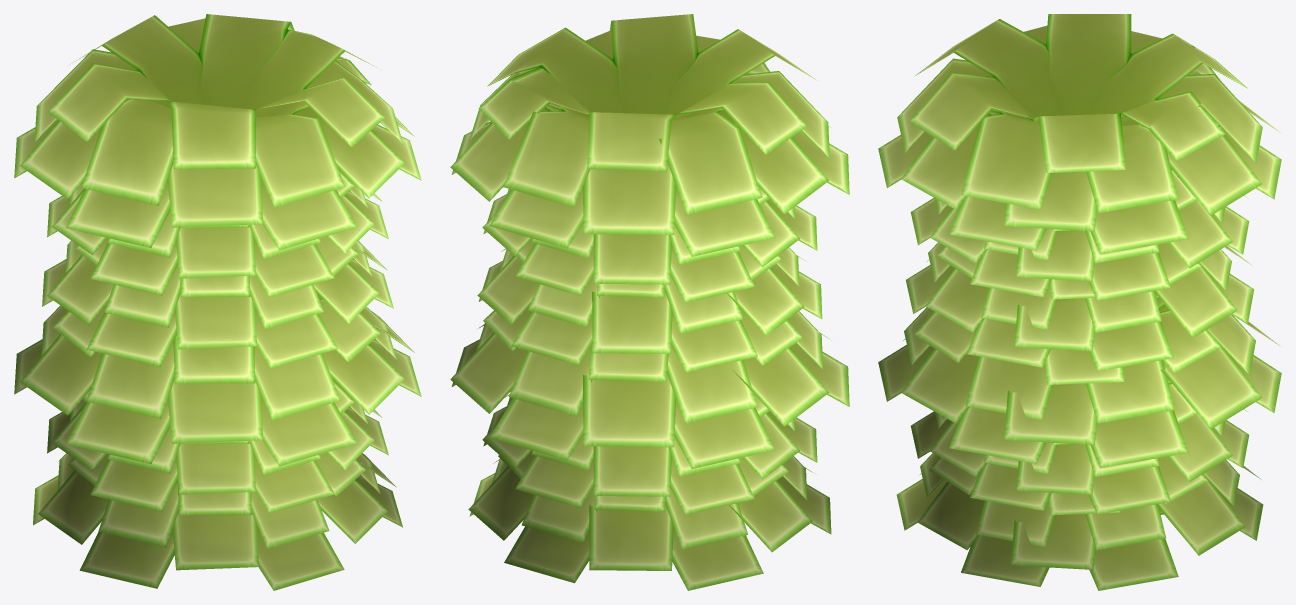
The model's file is SM_Plant_01_D.fbx.
3 renders of one model, left to right at view 1: azimuth 30°, elevation 25°; view 2: azimuth 150°, elevation 25°; view 3: azimuth 270°, elevation 25°, orthographic.
Parts seen in each view (by area): view 1: polySurface631; view 2: polySurface631; view 3: polySurface631.
Boxes of the visible parts, x1,y1,x2,y2 form: polySurface631: (14, 14, 421, 590); polySurface631: (450, 14, 849, 590); polySurface631: (878, 14, 1281, 590).
Size of the model in its own units: 69.01 by 87.44 by 68.35.
